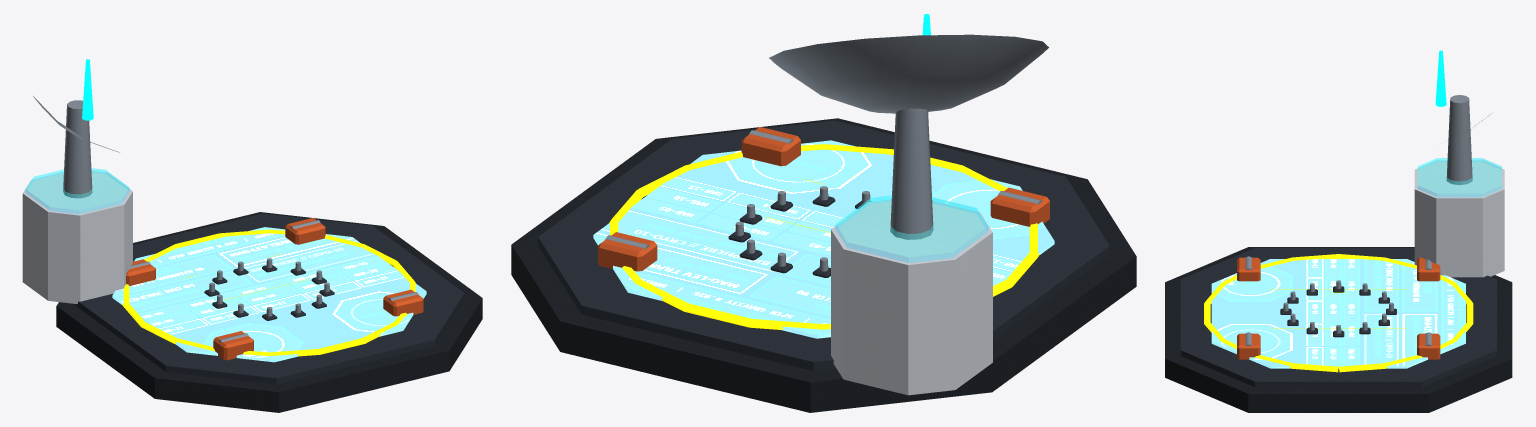
The model's file is prop_set_05_vtol_landing_pad_radar.glb.
3 renders of one model, left to right at view 1: azimuth 30°, elevation 25°; view 2: azimuth 150°, elevation 25°; view 3: azimuth 270°, elevation 25°, orthographic. The views are drawn at different scales.
Visible parts, largest first — view 1: Prop05_marquee, Prop05_carbon_slate, Prop05_gunmetal, Prop05_aero_white, Prop05_steel_machined, Prop05_led_amber, Prop05_accent_orange, Prop05_glass_cyan, Prop05_led_cyan; view 2: Prop05_marquee, Prop05_gunmetal, Prop05_carbon_slate, Prop05_aero_white, Prop05_steel_machined, Prop05_glass_cyan, Prop05_led_amber, Prop05_accent_orange; view 3: Prop05_marquee, Prop05_carbon_slate, Prop05_gunmetal, Prop05_aero_white, Prop05_steel_machined, Prop05_led_amber, Prop05_glass_cyan, Prop05_accent_orange, Prop05_led_cyan.
Boxes of the visible parts, left/top/right/bottom form: Prop05_marquee: left=112, top=227, right=426, bottom=362; Prop05_carbon_slate: left=74, top=213, right=464, bottom=384; Prop05_gunmetal: left=56, top=212, right=482, bottom=412; Prop05_aero_white: left=22, top=171, right=132, bottom=304; Prop05_steel_machined: left=33, top=96, right=418, bottom=342; Prop05_led_amber: left=122, top=229, right=415, bottom=356; Prop05_accent_orange: left=126, top=218, right=423, bottom=360; Prop05_glass_cyan: left=25, top=168, right=129, bottom=213; Prop05_led_cyan: left=82, top=59, right=93, bottom=120; Prop05_marquee: left=593, top=140, right=1054, bottom=338; Prop05_gunmetal: left=511, top=118, right=1136, bottom=412; Prop05_carbon_slate: left=538, top=120, right=1109, bottom=370; Prop05_aero_white: left=831, top=199, right=992, bottom=395; Prop05_steel_machined: left=605, top=34, right=1048, bottom=271; Prop05_glass_cyan: left=835, top=195, right=987, bottom=262; Prop05_led_amber: left=609, top=144, right=1039, bottom=329; Prop05_accent_orange: left=598, top=127, right=1049, bottom=271; Prop05_marquee: left=1211, top=259, right=1465, bottom=368; Prop05_carbon_slate: left=1180, top=248, right=1496, bottom=387; Prop05_gunmetal: left=1165, top=247, right=1512, bottom=412; Prop05_aero_white: left=1414, top=160, right=1504, bottom=277; Prop05_steel_machined: left=1245, top=95, right=1490, bottom=345; Prop05_led_amber: left=1204, top=254, right=1473, bottom=372; Prop05_glass_cyan: left=1417, top=158, right=1501, bottom=196; Prop05_accent_orange: left=1237, top=257, right=1440, bottom=359; Prop05_led_cyan: left=1435, top=50, right=1446, bottom=106.
Bounding box in the file's own units: 6.1 × 4.43 × 5.75.
Materials: 9 (9 with a texture image).
